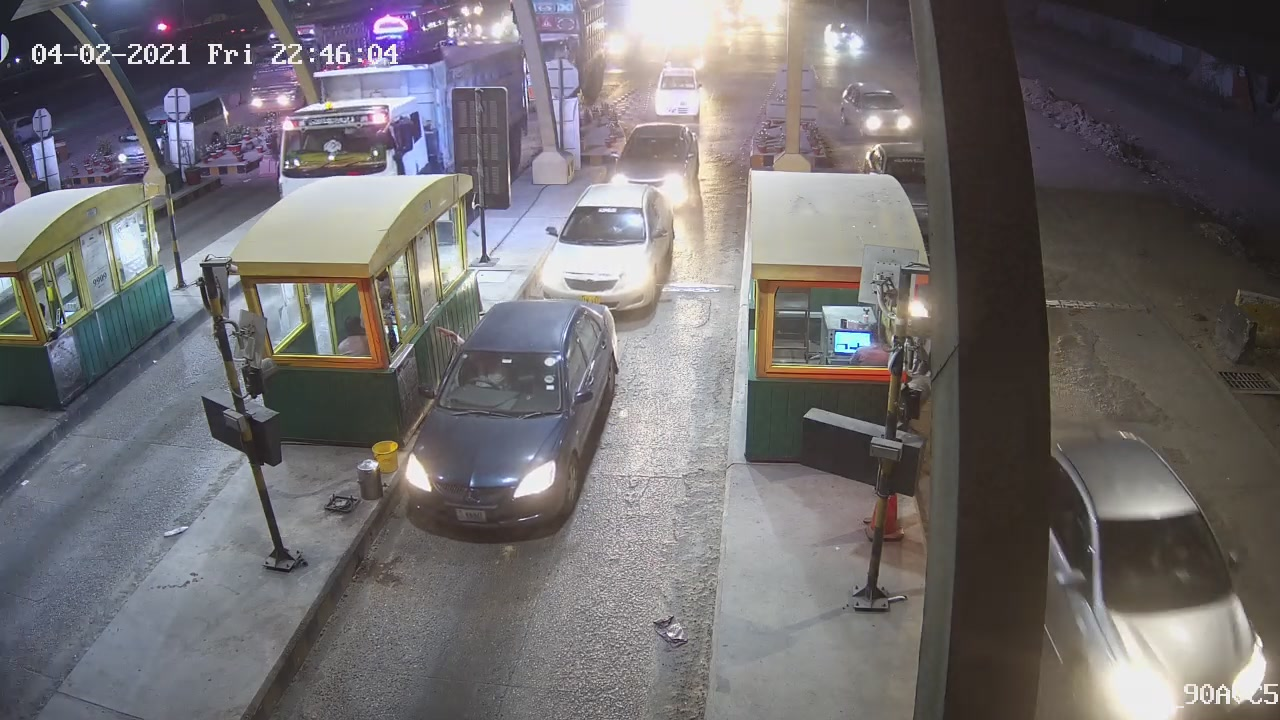F1: (404, 296, 618, 543), (525, 179, 683, 324)
